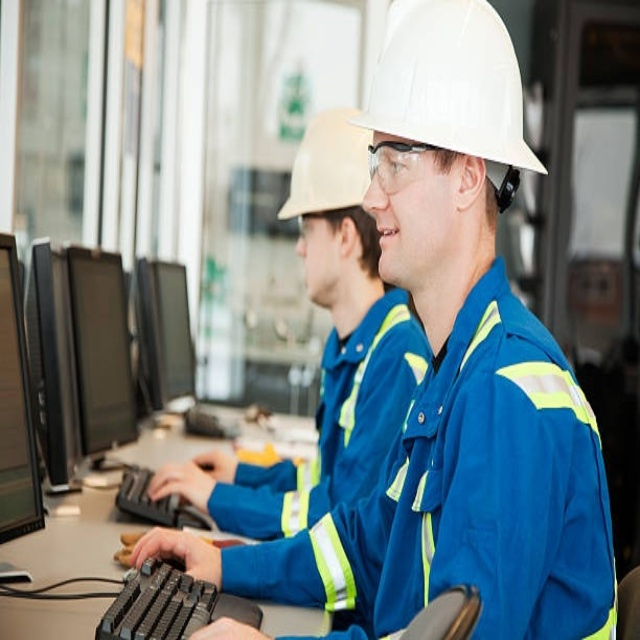Gafas: (367, 142, 449, 194), (297, 211, 329, 238)
Sin_guantes: (133, 519, 223, 596), (150, 452, 214, 505)
Sin_mascara: (371, 213, 413, 278), (296, 243, 329, 298)
